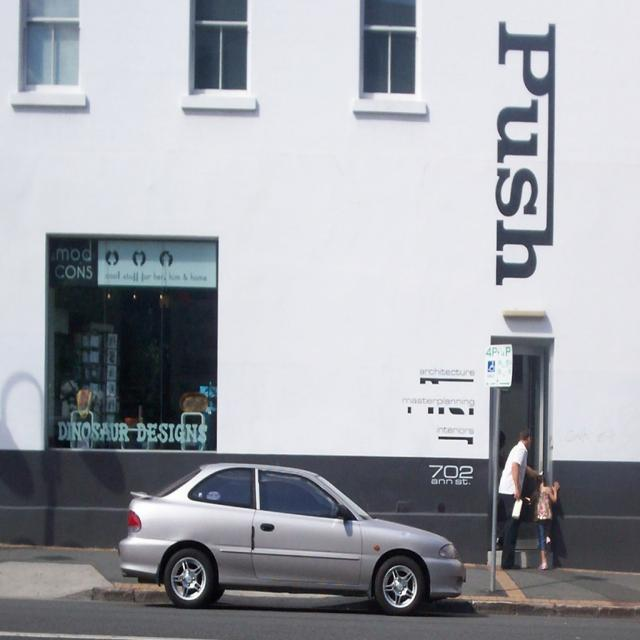other: (117, 462, 466, 614)
